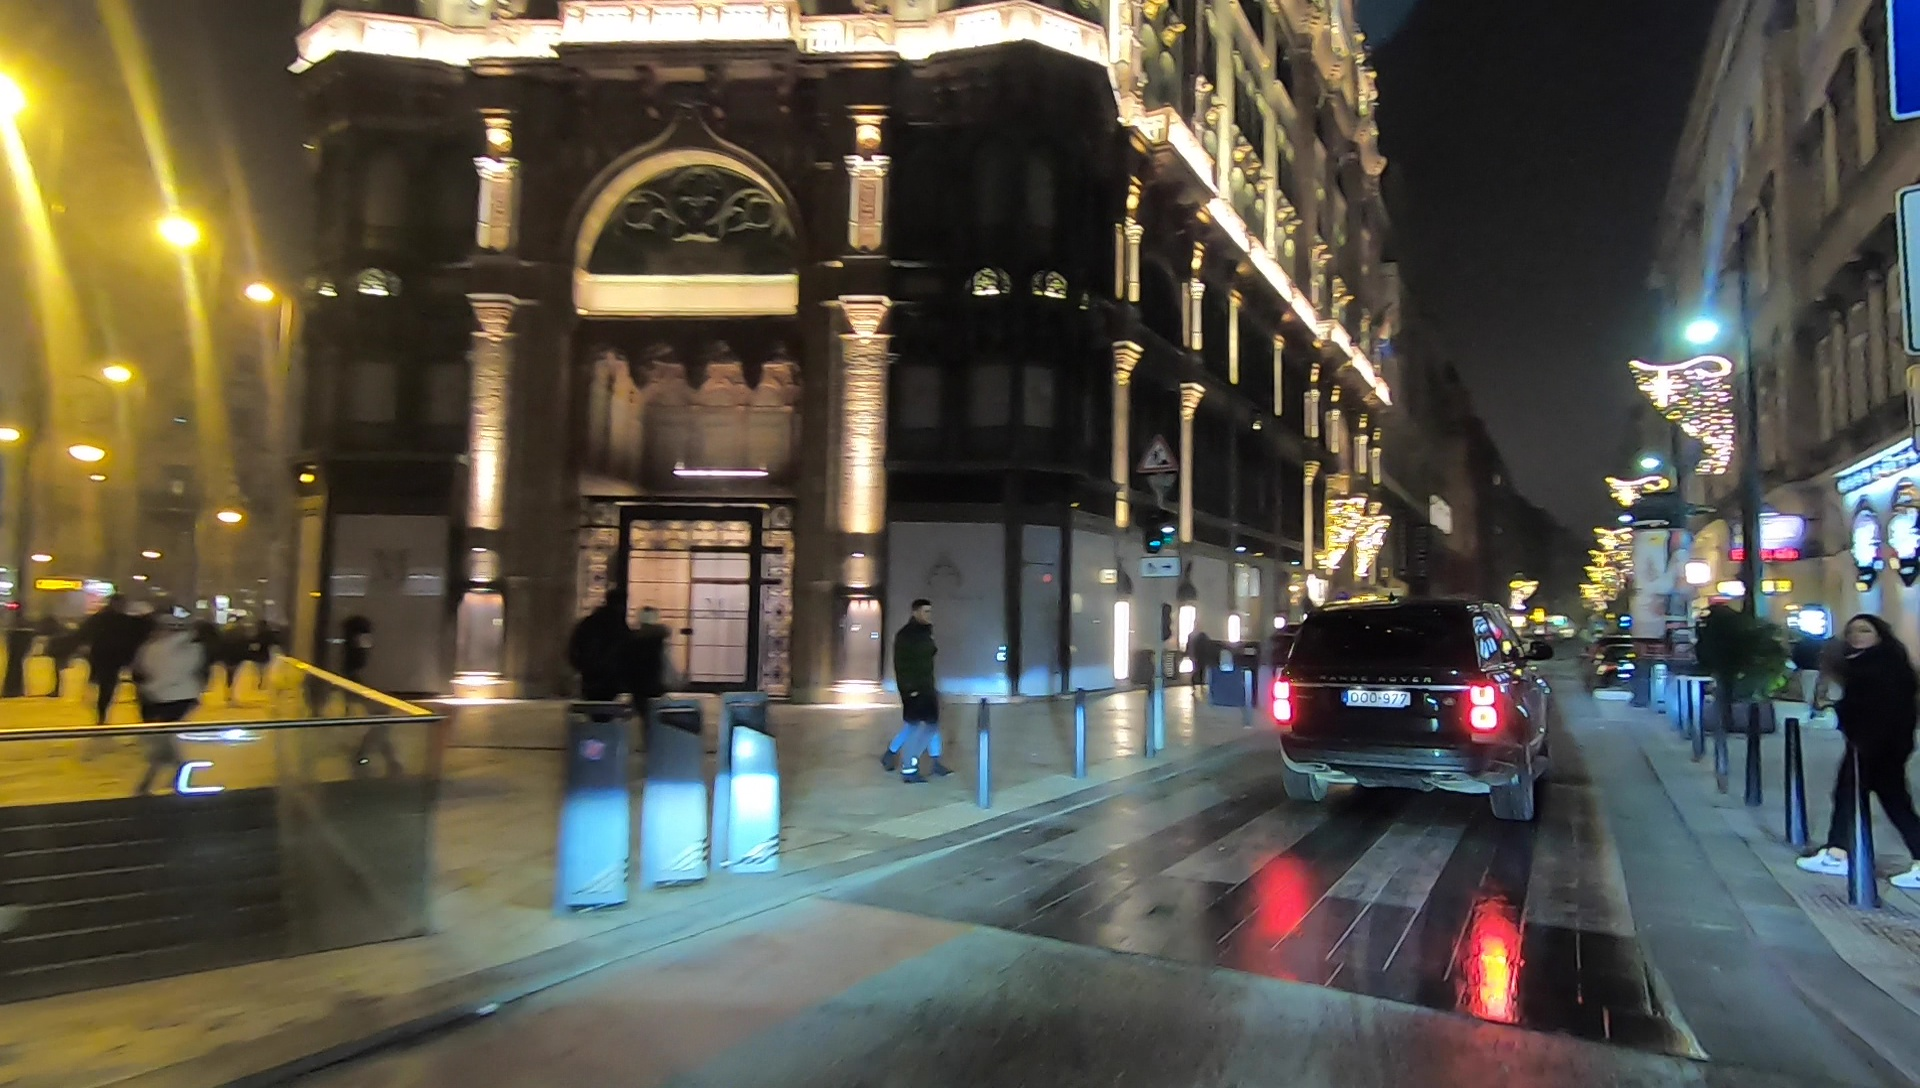person: (1795, 613, 1920, 887), (884, 600, 954, 782), (569, 589, 636, 771), (138, 621, 200, 795), (83, 590, 134, 727), (633, 603, 670, 752), (218, 611, 248, 702), (249, 616, 275, 690)
